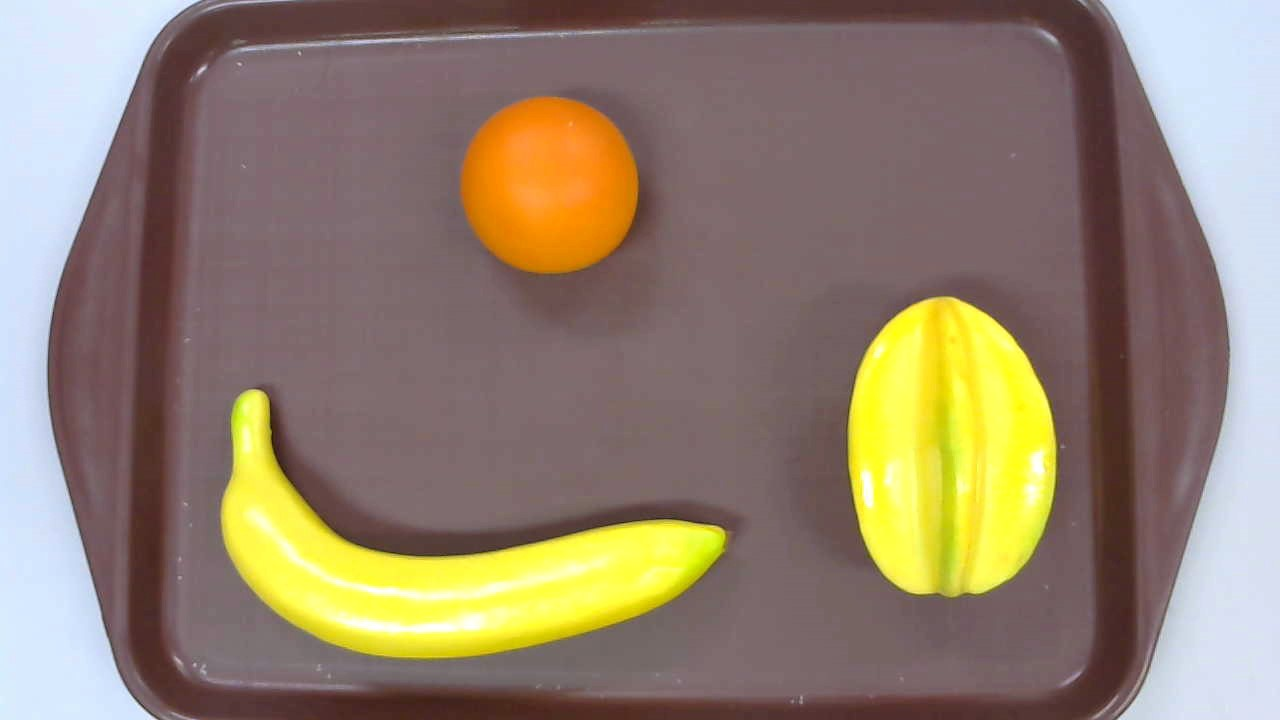banana: (218, 389, 737, 659)
bun: (459, 95, 640, 275)
star fruit: (845, 297, 1057, 597)
